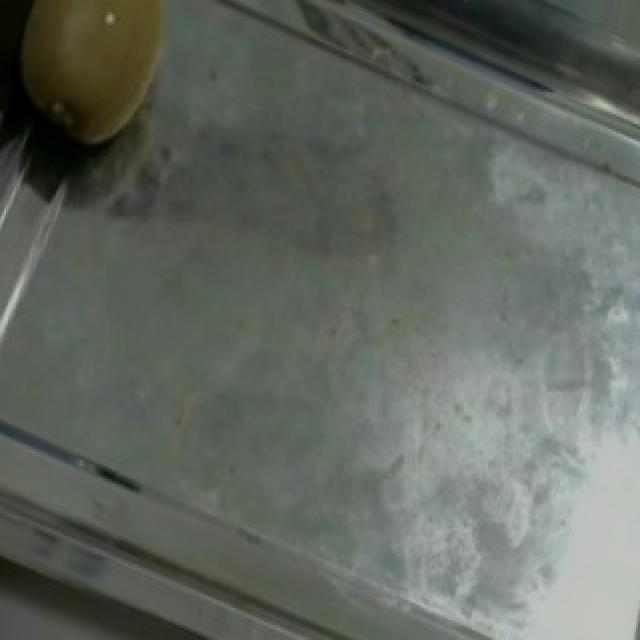Fruit: (2, 0, 212, 176)
